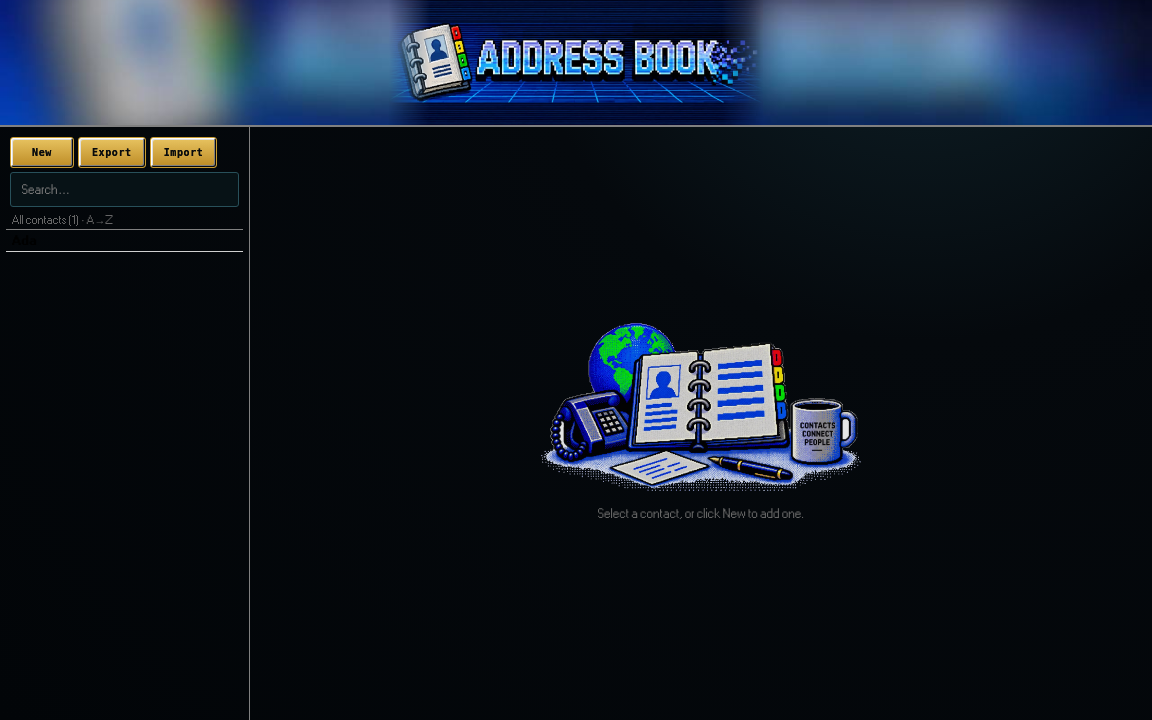
Scenario: the requested additions › lists an Affiliation section, repeatable like the other contact fields
The image size is (1152, 720).
Click the list item "Ada". click: (124, 241)
box: 6,230 -> 243,252
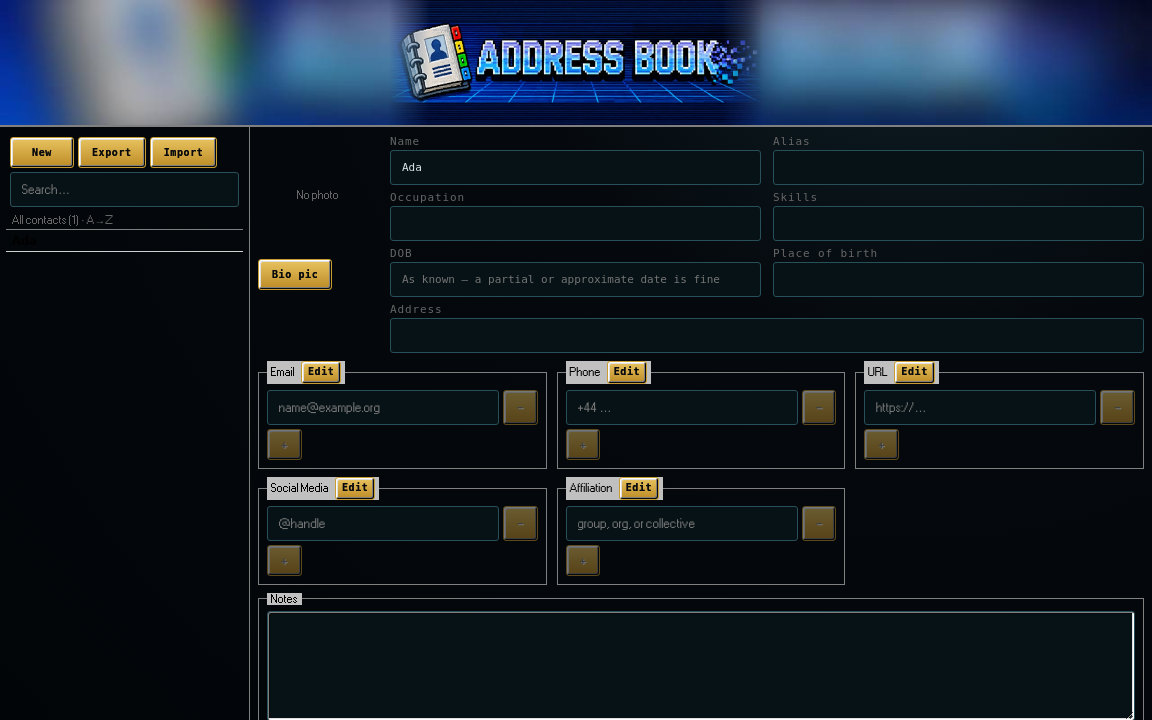
Now the field with placeholder "group, org, or collective" is shown, box 566,506 -> 798,541
